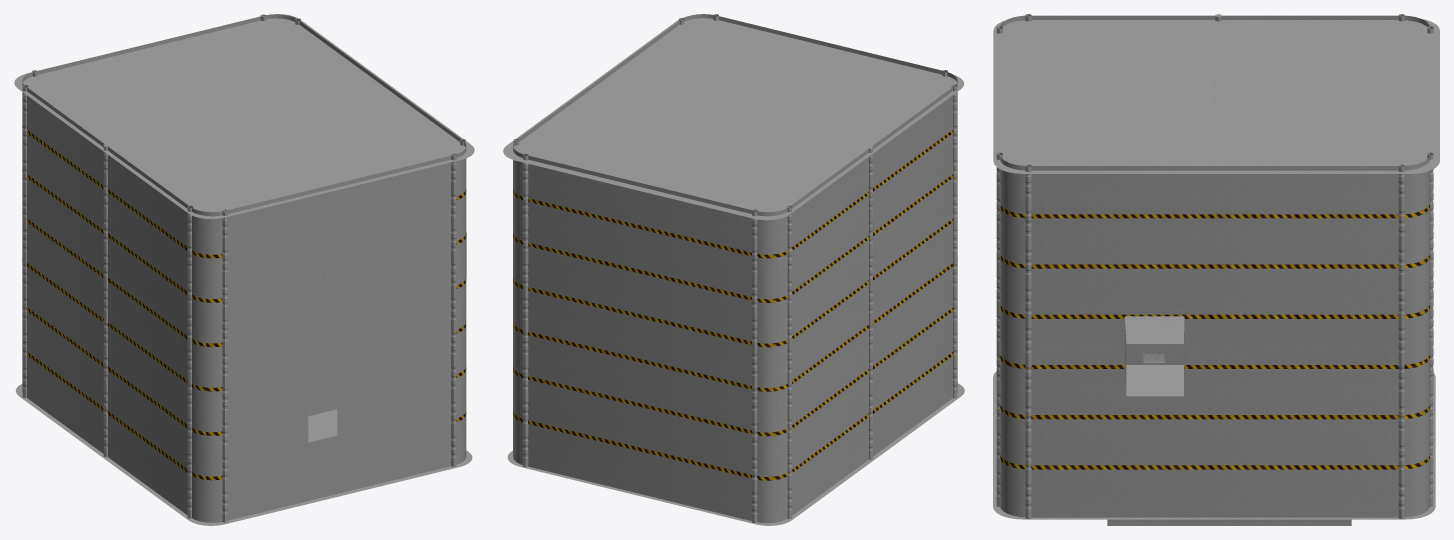
Rendered from BigTestingRoom.FBX.
3 renders of one model, left to right at view 1: azimuth 30°, elevation 25°; view 2: azimuth 150°, elevation 25°; view 3: azimuth 270°, elevation 25°, orthographic. The views are drawn at different scales.
Parts seen in each view (by area): view 1: BigTestingRoom_mesh; view 2: BigTestingRoom_mesh; view 3: BigTestingRoom_mesh.
Boxes of the visible parts, x1,y1,x2,y2 form: BigTestingRoom_mesh: (14,14,474,525); BigTestingRoom_mesh: (503,14,964,525); BigTestingRoom_mesh: (993,14,1439,525).
Size of what is drawn, in the model's own units: 2947 by 2968 by 3111.
6 materials, 6 textured.
